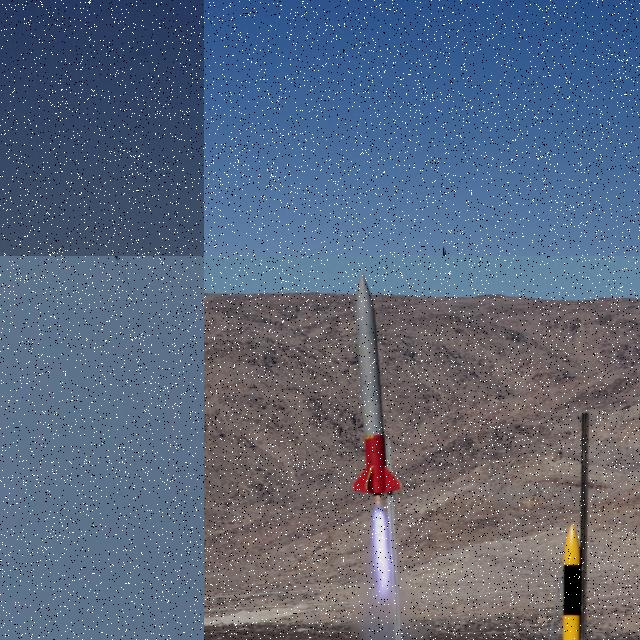Rocket: (351, 270, 404, 497), (543, 521, 597, 640), (442, 245, 455, 256)
